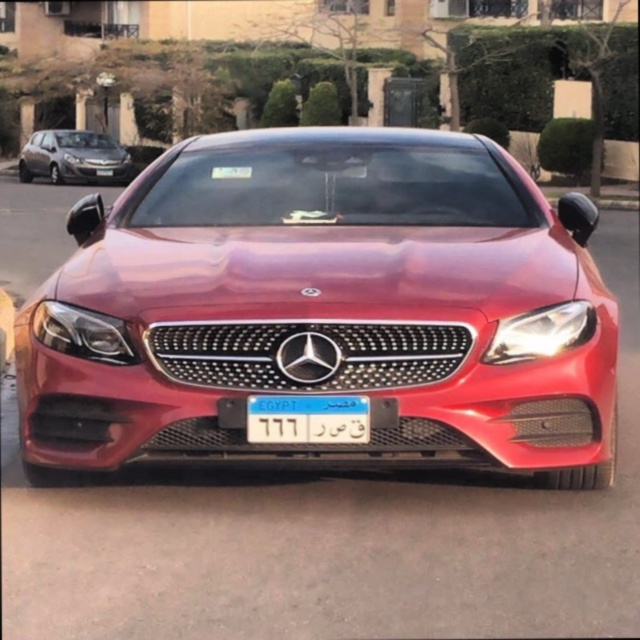License Plate: (244, 393, 372, 447)
